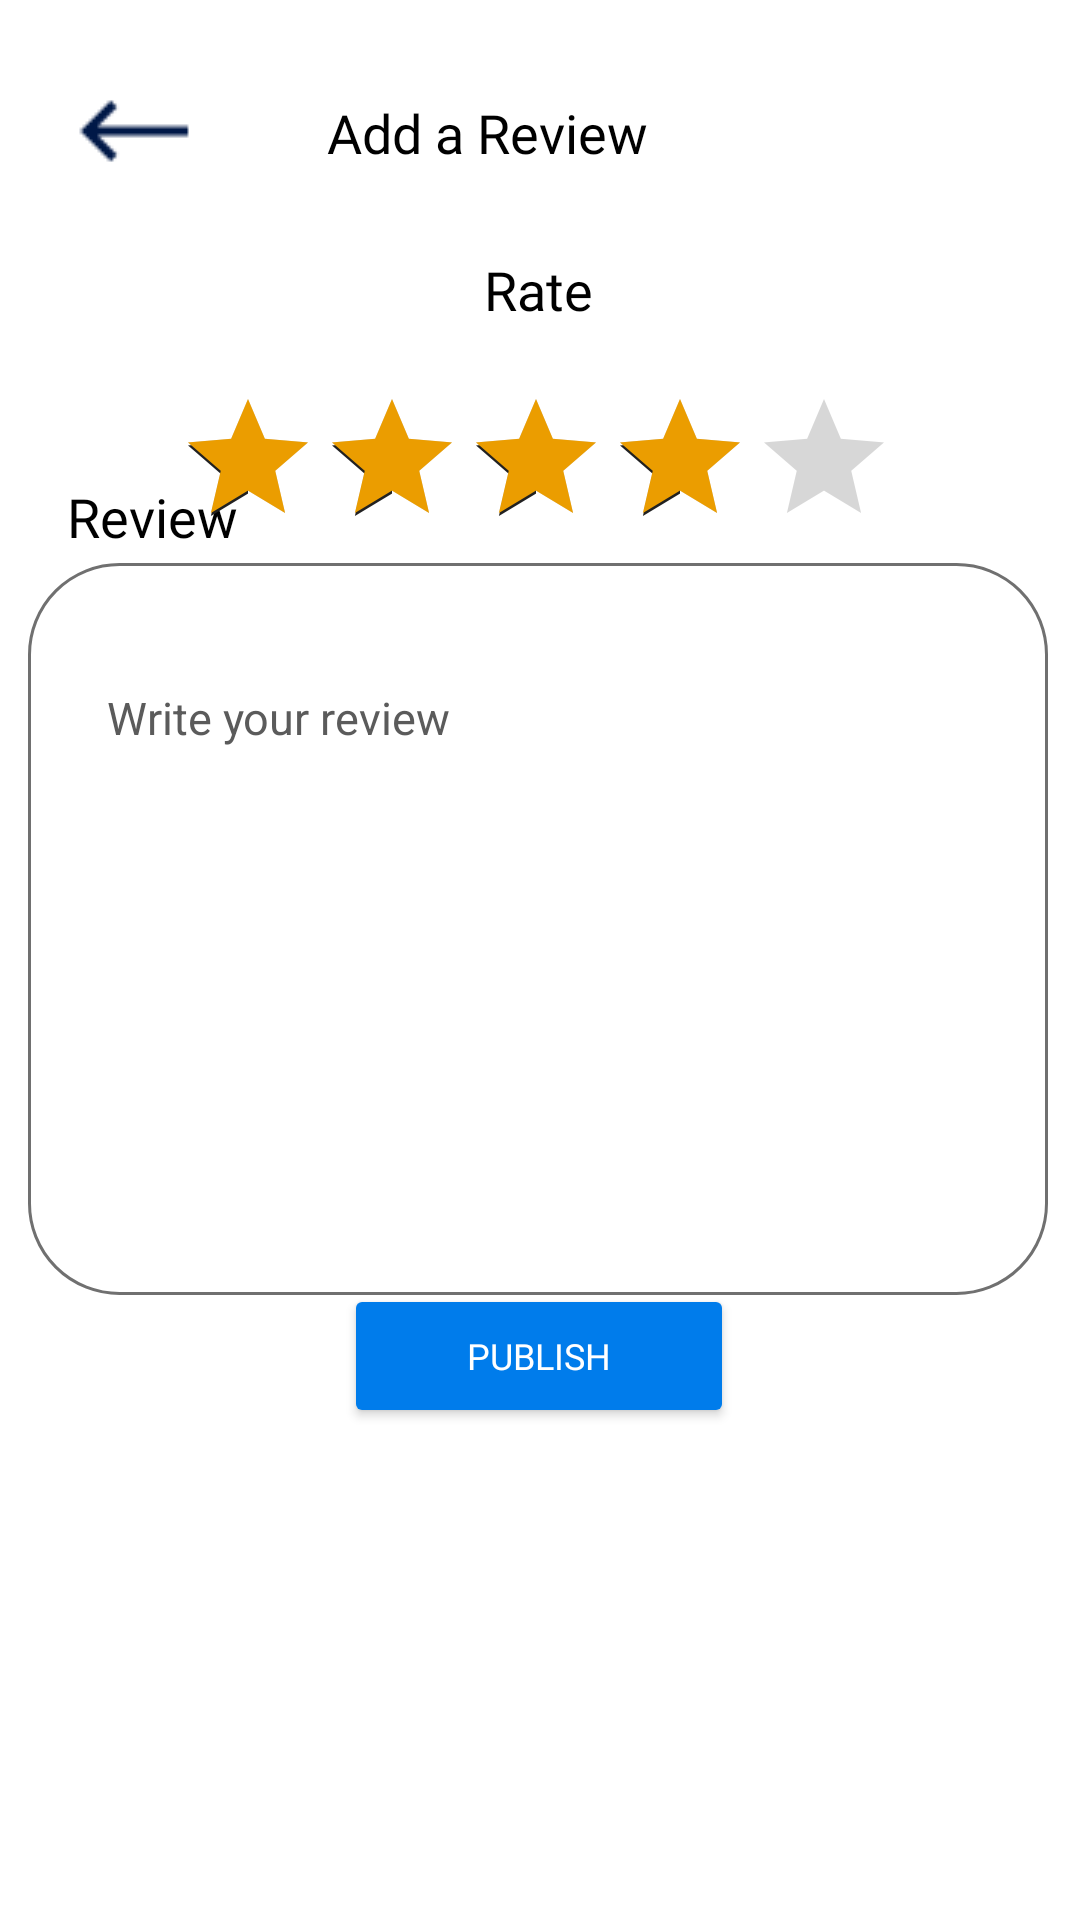

Screen size 1080px x 1920px. Icon name, then its center in pixels as (x,y):
arrow back: (134,131)
